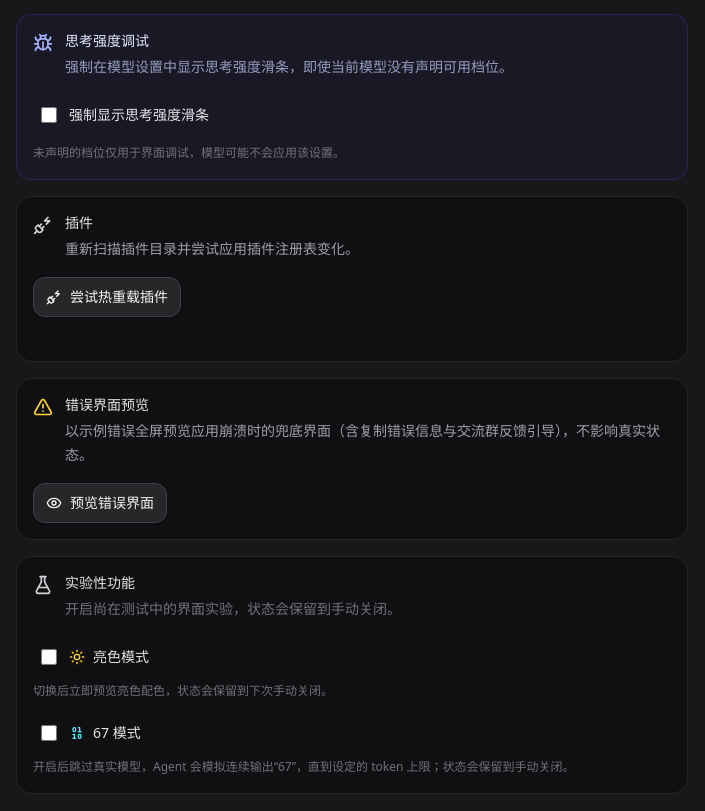
Test: DebugPage › edits the persistent 67 output controls
The width and height of the screenshot is (705, 811).
Click the checkbox labelled "67 模式": click(49, 733) [41,725,57,741]
(page scrolled)
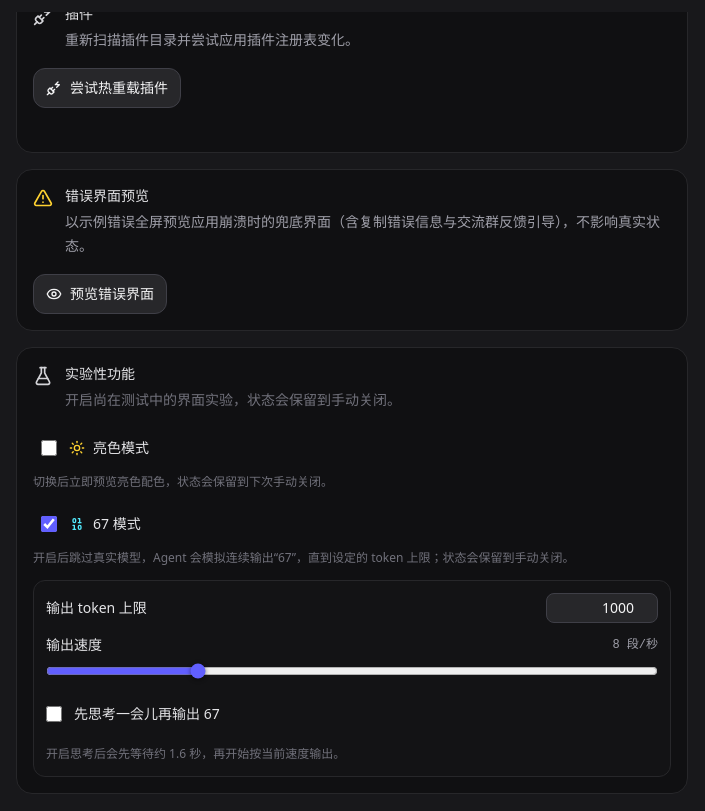
expect the checkbox labelled "先思考一会儿再输出 67" is shown: met
expect the number field named "67 模式输出 token 上限" is shown: met, box [546,593,658,623]
expect the slider named "67 模式输出速度" is shown: met, box [46,663,658,679]
Click the checkbox labelled "先思考一会儿再输出 67": click(54, 714) [46,706,62,722]
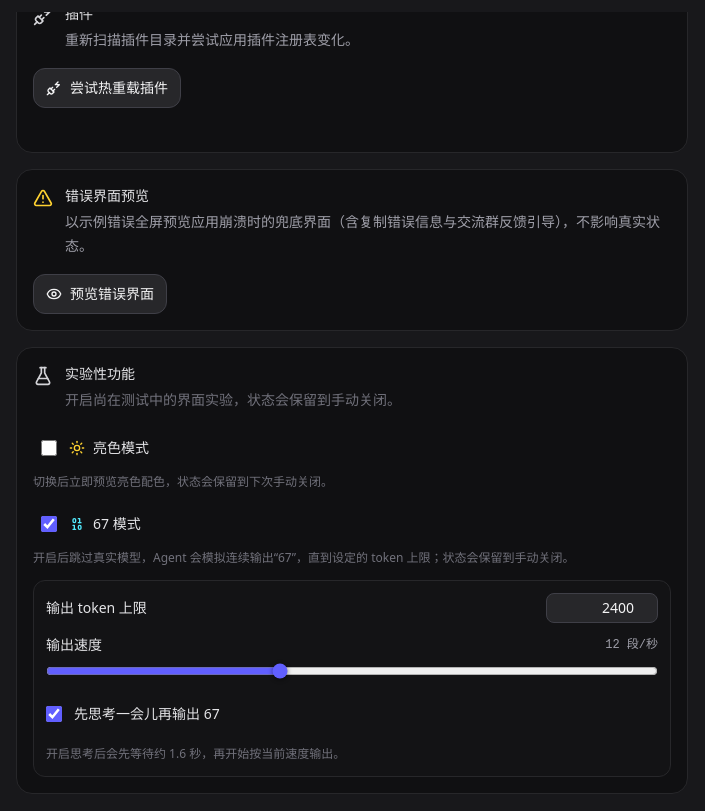
expect the number field named "67 模式输出 token 上限" holds "2400": met, box [546,593,658,623]
expect the slider named "67 模式输出速度" holds "12": met, box [46,663,658,679]
